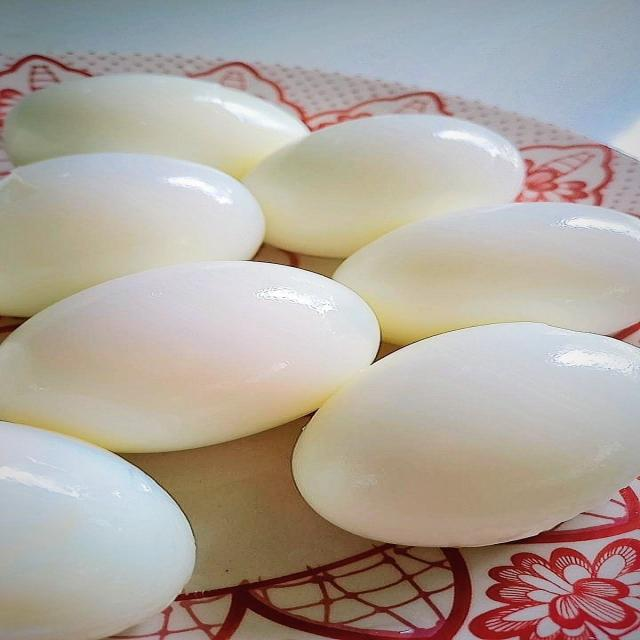egg boiled: (293, 323, 639, 546), (0, 261, 379, 451), (334, 203, 639, 344), (0, 153, 263, 316), (0, 422, 194, 639), (245, 115, 524, 257), (3, 74, 308, 176)
